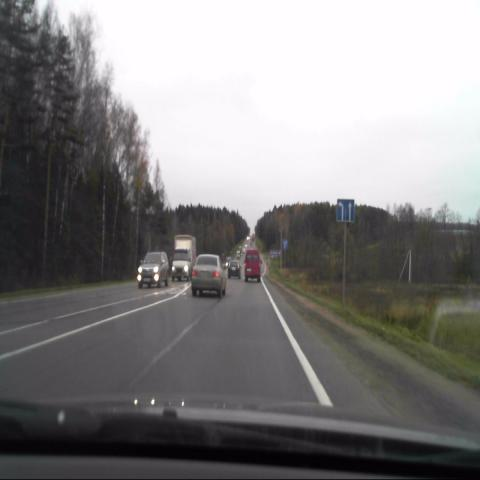5_15_2_2: (336, 198, 355, 221)
